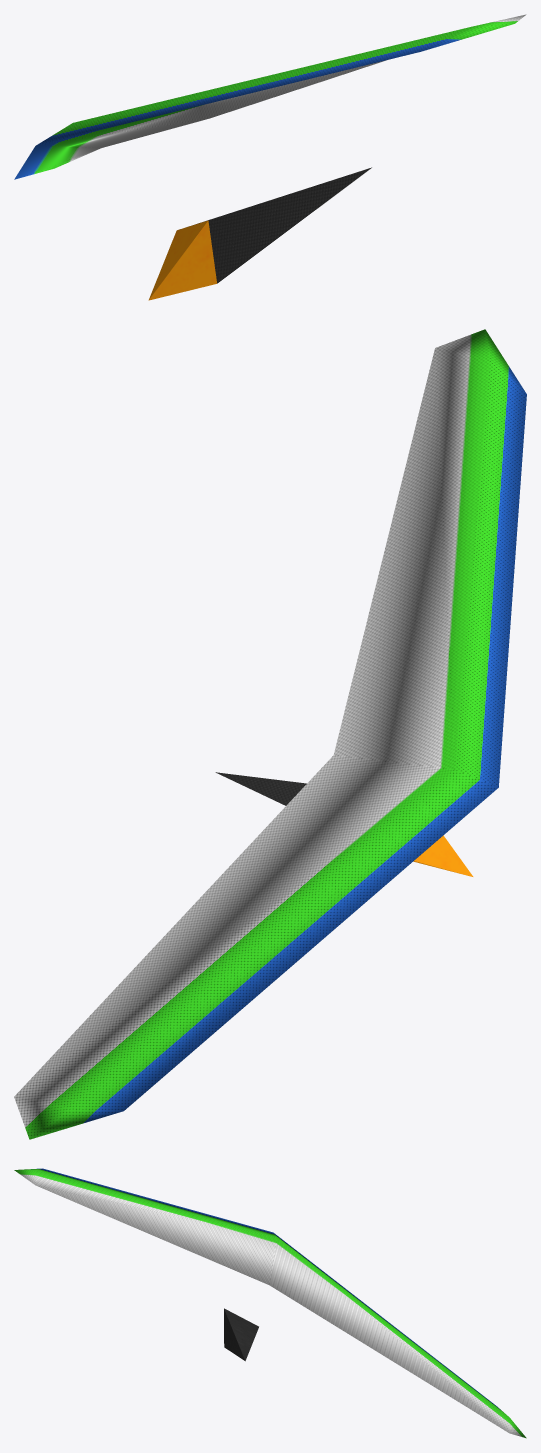
Rendered from hang-glider-green-thermal-cbj_LOD04.gltf.
3 renders of one model, top to bottom at view 1: azimuth 30°, elevation 25°; view 2: azimuth 150°, elevation 25°; view 3: azimuth 270°, elevation 25°, orthographic. The views are drawn at different scales.
Parts seen in each view (by area): view 1: hang-glider00; view 2: hang-glider00; view 3: hang-glider00.
Part boxes in pixels (bbox=[...]): hang-glider00: bbox=[14, 14, 526, 300]; hang-glider00: bbox=[14, 329, 526, 1139]; hang-glider00: bbox=[14, 1168, 526, 1438].
Size of what is drawn, in the model's own units: 3.41 by 5.03 by 8.71.
